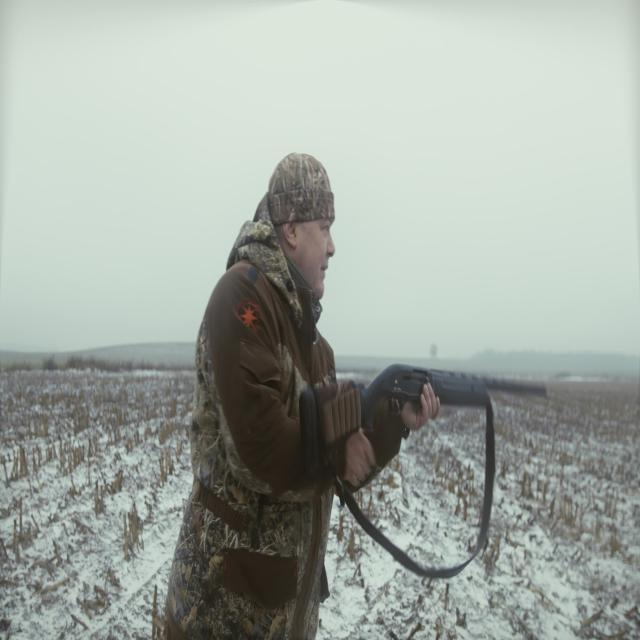Rifle: (296, 359, 546, 488)
